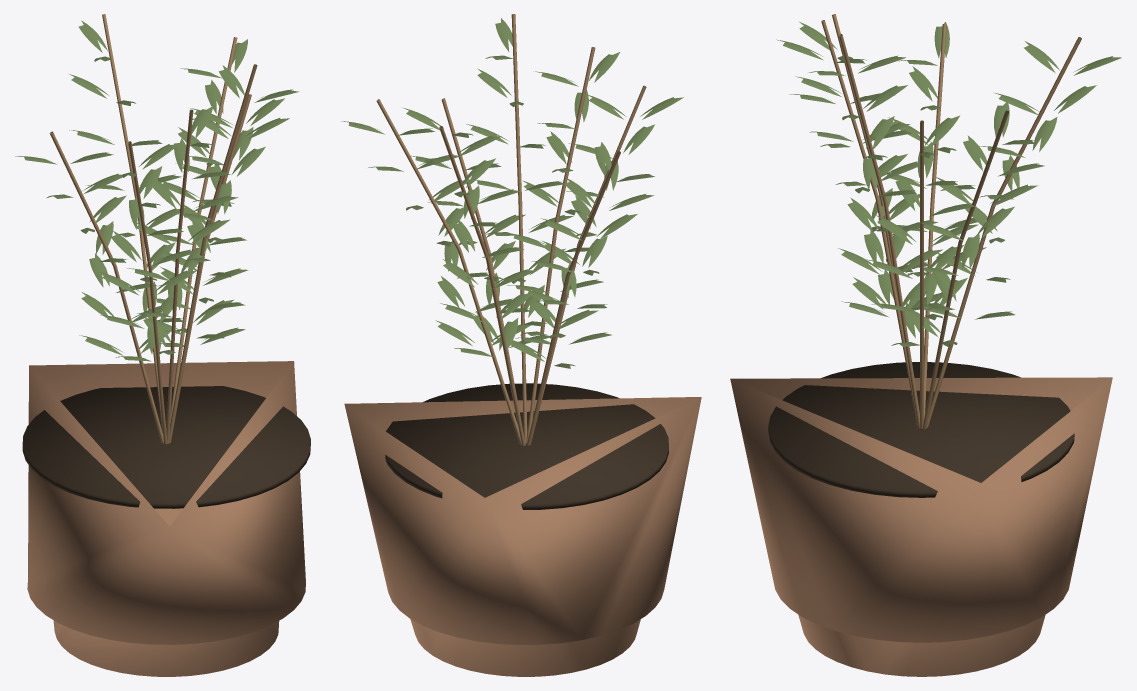
File: kitchen-herbs-light.glb
The picture shows the model from 3 angles, left to right: view 1: azimuth 30°, elevation 25°; view 2: azimuth 150°, elevation 25°; view 3: azimuth 270°, elevation 25°; orthographic projection. The views are drawn at different scales.
Parts seen in each view (by area): view 1: Mood stoneware clay, Mood soil, Mood olive leaf, Mood oak board; view 2: Mood stoneware clay, Mood soil, Mood olive leaf, Mood oak board; view 3: Mood stoneware clay, Mood soil, Mood olive leaf, Mood oak board.
Part boxes in pixels (<box>): Mood stoneware clay: <box>27,361,305,676</box>; Mood soil: <box>22,386,310,508</box>; Mood olive leaf: <box>15,20,299,361</box>; Mood oak board: <box>49,14,257,444</box>; Mood stoneware clay: <box>344,397,701,676</box>; Mood soil: <box>385,383,668,509</box>; Mood olive leaf: <box>341,18,683,368</box>; Mood oak board: <box>376,14,646,445</box>; Mood stoneware clay: <box>730,377,1112,676</box>; Mood soil: <box>768,362,1074,497</box>; Mood olive leaf: <box>776,22,1121,346</box>; Mood oak board: <box>821,14,1081,429</box>.
Bounding box in the file's own units: 0.2137 × 0.3993 × 0.2298.
